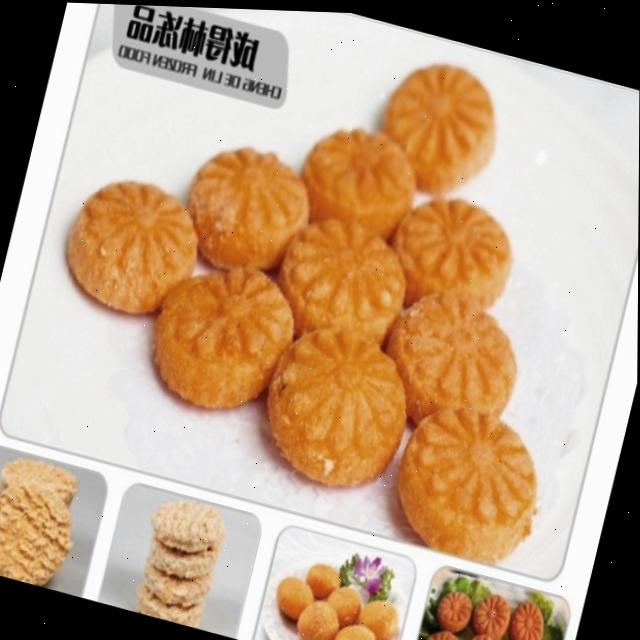炸货点心: (15, 1, 640, 574)
蛋糕甜品: (15, 1, 640, 574)
